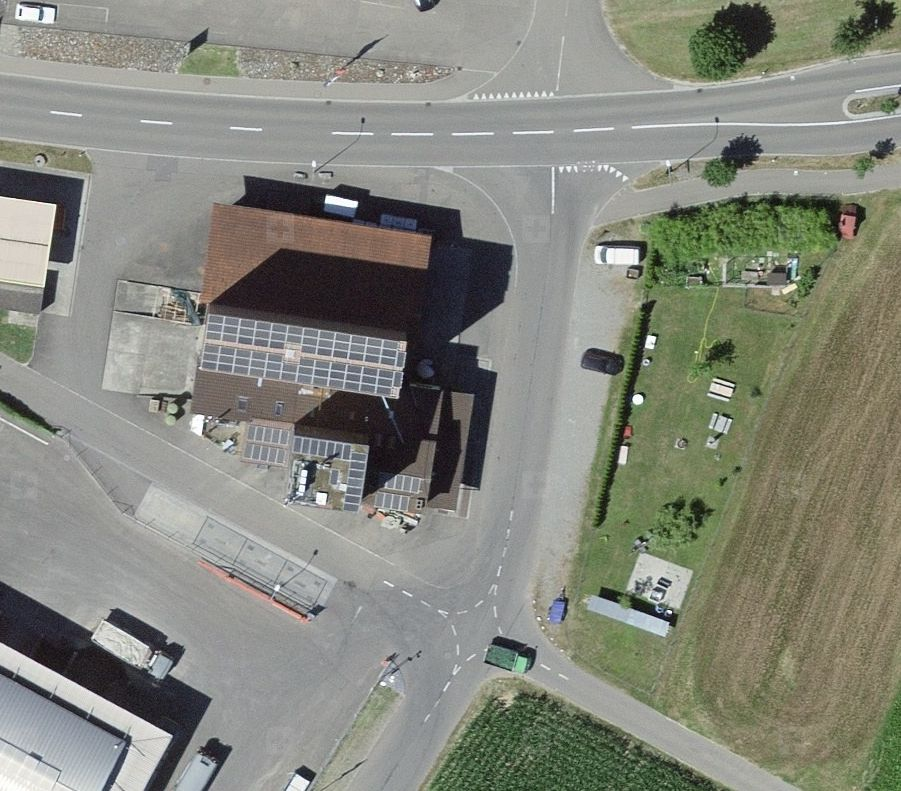solar: (198, 313, 405, 402), (241, 423, 348, 470), (342, 452, 420, 514)
